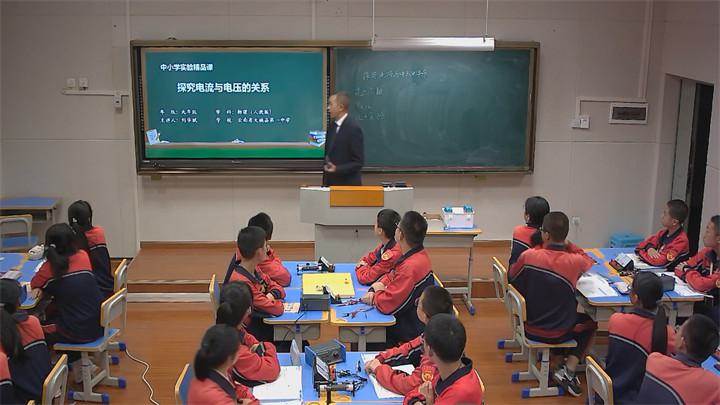listen: (664, 302, 719, 405), (614, 270, 666, 373), (532, 211, 580, 317), (38, 221, 83, 333), (420, 319, 474, 405), (191, 323, 246, 405), (391, 197, 430, 291), (644, 190, 692, 261), (231, 223, 270, 283)
